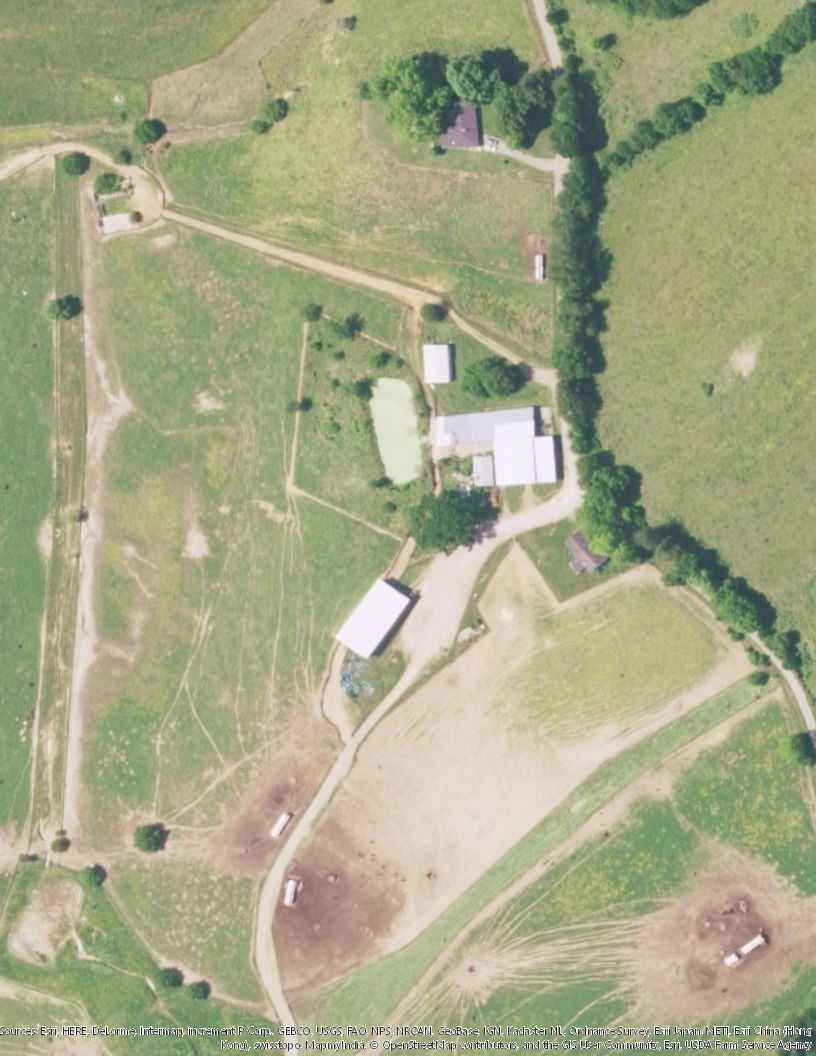cafo: (423, 409, 570, 497), (334, 571, 417, 666), (417, 336, 456, 387)
